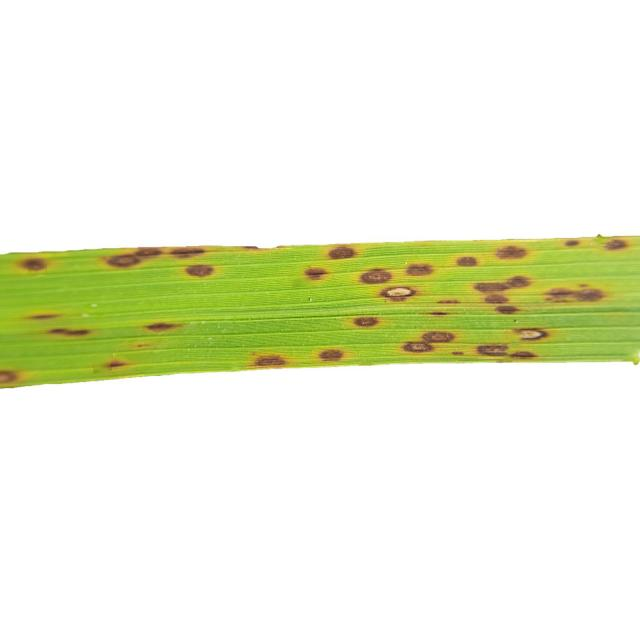Brown spot: (1, 201, 640, 405)
